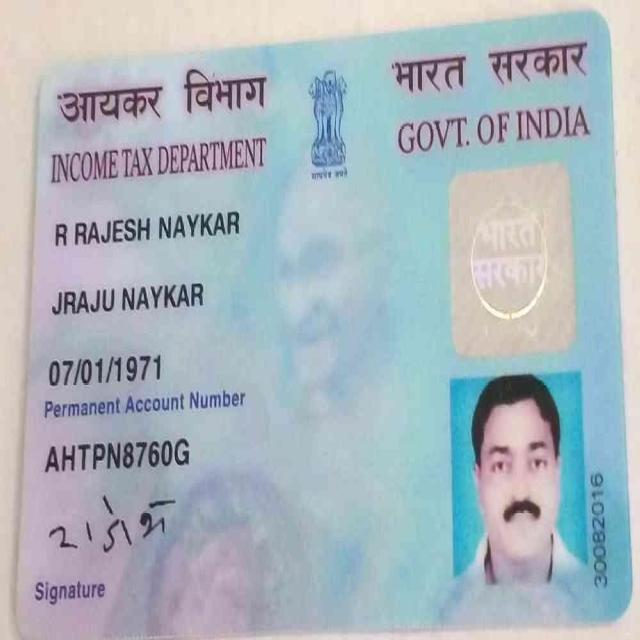pan_card: (23, 16, 624, 635)
